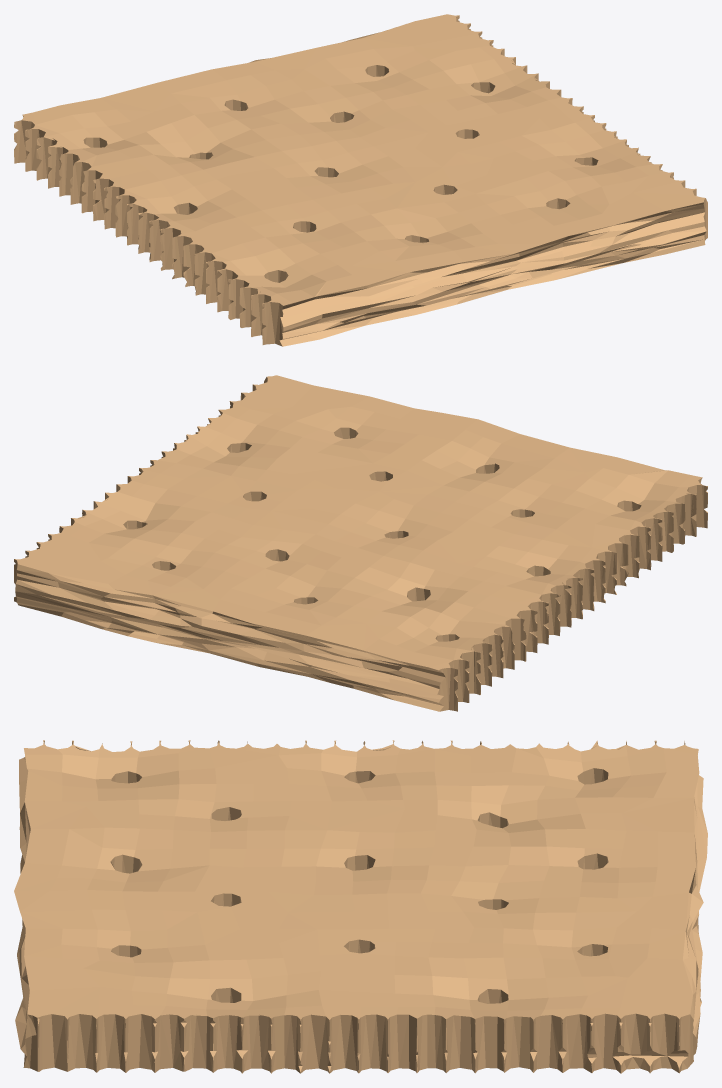
Rendered from Cracker.fbx.
3 views of the same model, one above another, from view 1: azimuth 30°, elevation 25°; view 2: azimuth 150°, elevation 25°; view 3: azimuth 270°, elevation 25° (orthographic). The views are drawn at different scales.
Parts seen in each view (by area): view 1: 立方体.001; view 2: 立方体.001; view 3: 立方体.001.
Boxes of the visible parts, x1,y1,x2,y2 form: 立方体.001: (14, 14, 707, 346); 立方体.001: (14, 375, 707, 711); 立方体.001: (14, 740, 707, 1073).
Size of the model in its own units: 198 by 18.45 by 208.
